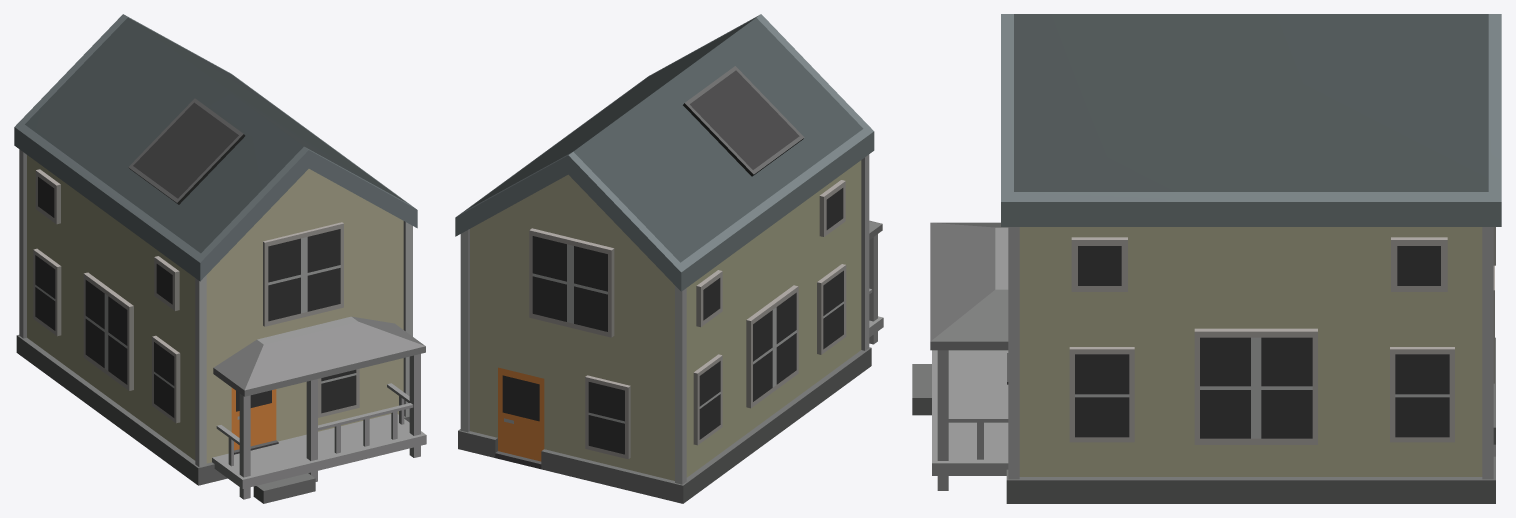
Rendered from Building_House_04.gltf.
3 views of the same model, side by side, from view 1: azimuth 30°, elevation 25°; view 2: azimuth 150°, elevation 25°; view 3: azimuth 270°, elevation 25° (orthographic). The views are drawn at different scales.
Visible parts, largest first — view 1: Building_House_04; view 2: Building_House_04; view 3: Building_House_04.
Part boxes in pixels (bbox=[...]): Building_House_04: bbox=[14, 14, 426, 503]; Building_House_04: bbox=[455, 14, 883, 503]; Building_House_04: bbox=[912, 14, 1501, 503].
Bounding box in the file's own units: 10.63 × 14.52 × 18.52.
Materials: 1 (1 with a texture image).
